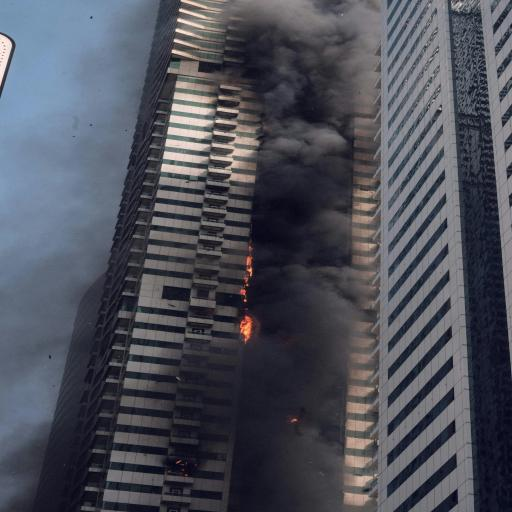buildingfire: (74, 0, 458, 512)
smoke: (149, 8, 427, 512)
